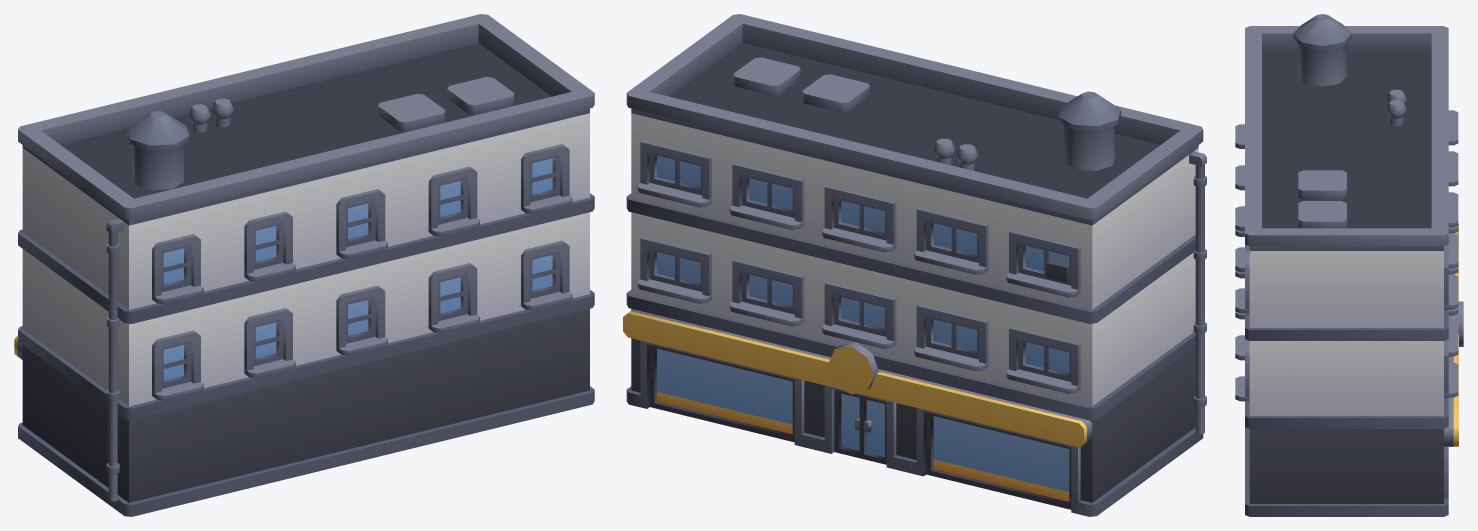
The model's file is building-k.glb.
The picture shows the model from 3 angles, left to right: view 1: azimuth 30°, elevation 25°; view 2: azimuth 150°, elevation 25°; view 3: azimuth 270°, elevation 25°; orthographic projection. The views are drawn at different scales.
Visible parts, largest first — view 1: building-k; view 2: building-k; view 3: building-k.
Part boxes in pixels (left/top/right/bottom): building-k: left=14, top=14, right=594, bottom=516; building-k: left=623, top=14, right=1206, bottom=516; building-k: left=1235, top=14, right=1463, bottom=516.
Bounding box in the file's own units: 2.08 × 1.47 × 0.9419.
1 material, 1 textured.
